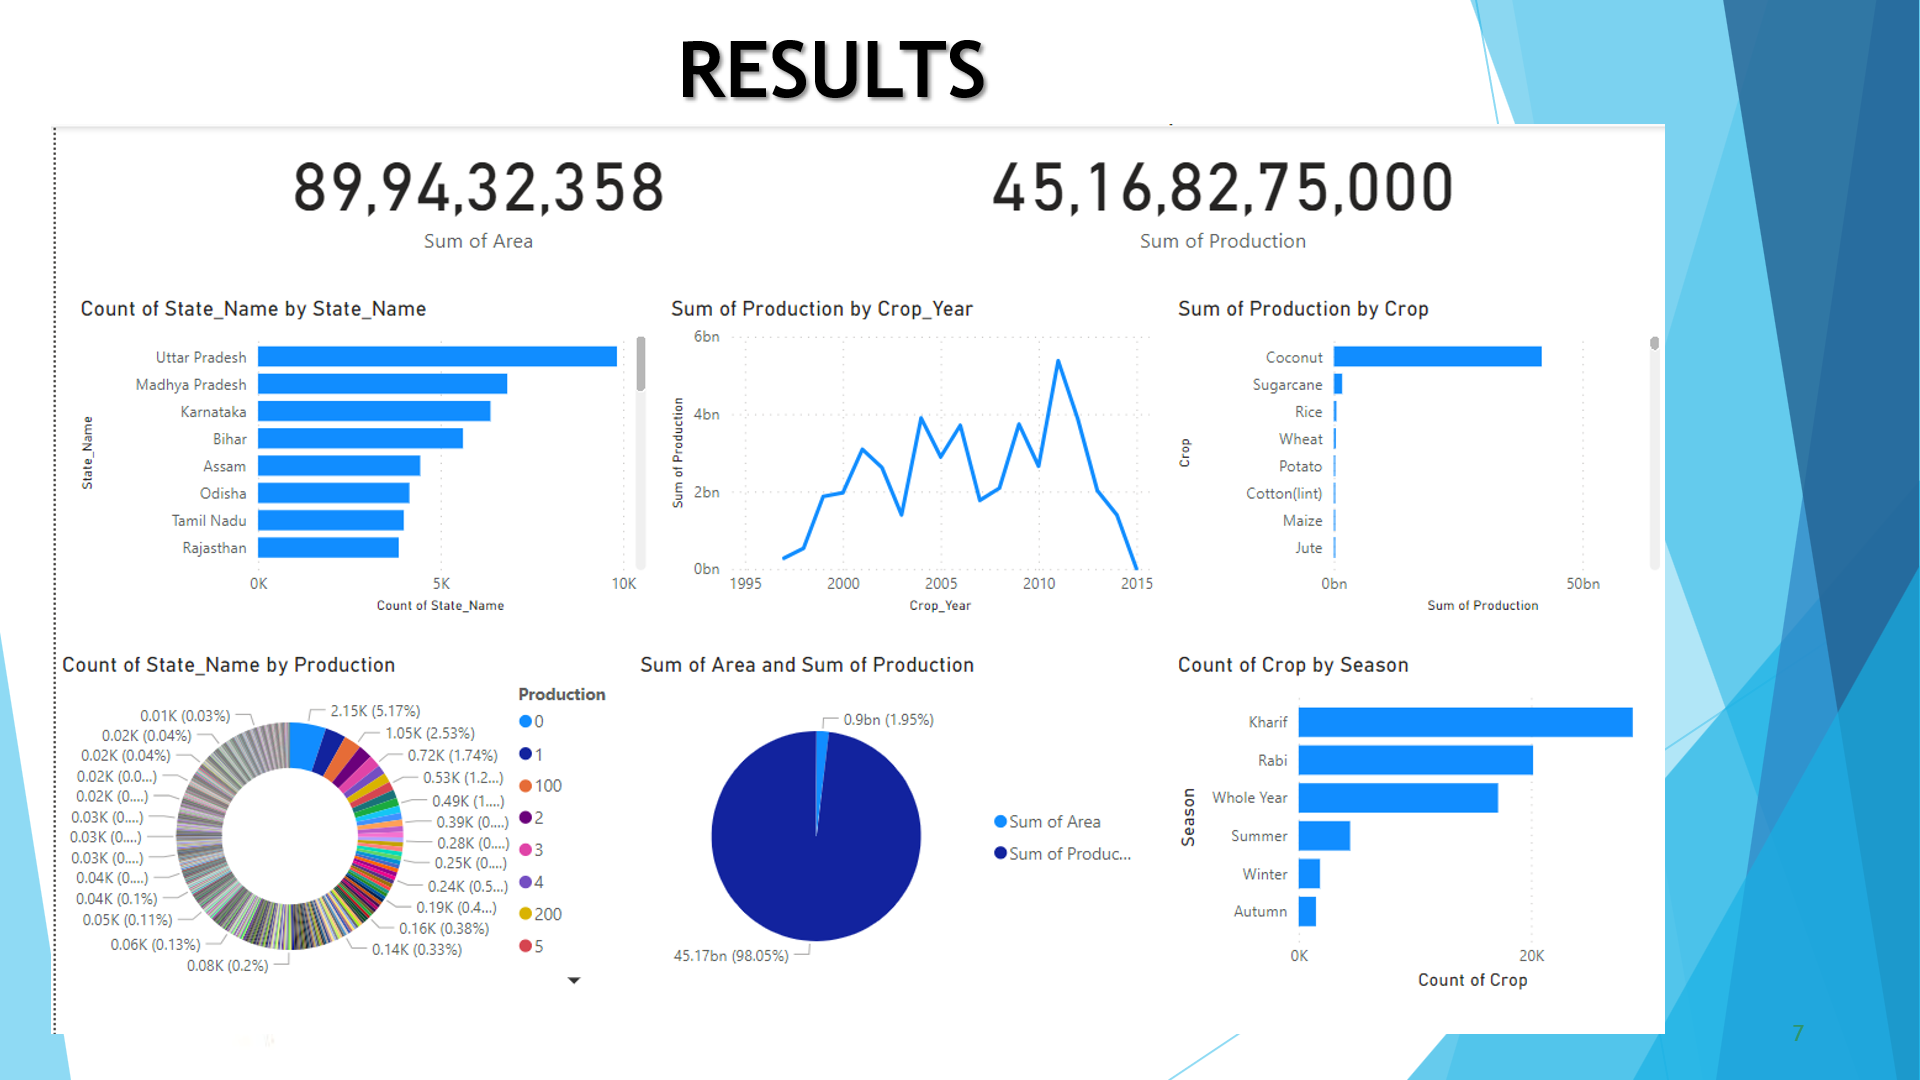

The page's visual inventory and layout, read from the dashboard file:
{"tool":"powerbi","page":{"name":"Page 1","canvas":[1280,720],"ordinal":0},"visuals":[{"type":"card","fields":{"Values":["Sum(Crop Production Analysis.Area)"]},"box":[136.9,0,397.3,102.7],"z":0},{"type":"barChart","fields":{"Category":["Crop Production Analysis.State_Name"],"Y":["CountNonNull(Crop Production Analysis.State_Name)"]},"box":[14.7,133.2,458.4,256.7],"z":1000},{"type":"donutChart","fields":{"Category":["Crop Production Analysis.Production"],"Y":["CountNonNull(Crop Production Analysis.State_Name)"]},"box":[0,415.6,458.4,272.6],"z":2000},{"type":"lineChart","fields":{"Category":["Crop Production Analysis.Crop_Year"],"Y":["Sum(Crop Production Analysis.Production)"]},"box":[482.9,133.2,392.4,256.7],"z":3000},{"type":"pieChart","fields":{"Y":["Sum(Crop Production Analysis.Area)","Sum(Crop Production Analysis.Production)"]},"box":[458.4,415.6,410.7,272.6],"z":4000},{"type":"barChart","fields":{"Category":["Crop Production Analysis.Crop"],"Y":["Sum(Crop Production Analysis.Production)"]},"box":[885,133.2,392.4,256.7],"z":5000},{"type":"barChart","fields":{"Y":["CountNonNull(Crop Production Analysis.Crop)"],"Category":["Crop Production Analysis.Season"]},"box":[885,415.6,392.4,272.6],"z":6000},{"type":"card","fields":{"Values":["Sum(Crop Production Analysis.Production)"]},"box":[712.7,0,426.6,102.7],"z":7000}]}

Visuals, with their boxes in screenshot pixels (x1, y1, x2, y2), scaled from the page's 1280x720 canvas onto the 1920x1080 screenshot:
card - Sum(Crop Production Analysis.Area): 205,0,801,154
barChart - Crop Production Analysis.State_Name x CountNonNull(Crop Production Analysis.State_Name): 22,200,710,585
donutChart - Crop Production Analysis.Production x CountNonNull(Crop Production Analysis.State_Name): 0,623,688,1032
lineChart - Crop Production Analysis.Crop_Year x Sum(Crop Production Analysis.Production): 724,200,1313,585
pieChart - Sum(Crop Production Analysis.Area) x Sum(Crop Production Analysis.Production): 688,623,1304,1032
barChart - Crop Production Analysis.Crop x Sum(Crop Production Analysis.Production): 1328,200,1916,585
barChart - CountNonNull(Crop Production Analysis.Crop) x Crop Production Analysis.Season: 1328,623,1916,1032
card - Sum(Crop Production Analysis.Production): 1069,0,1709,154
